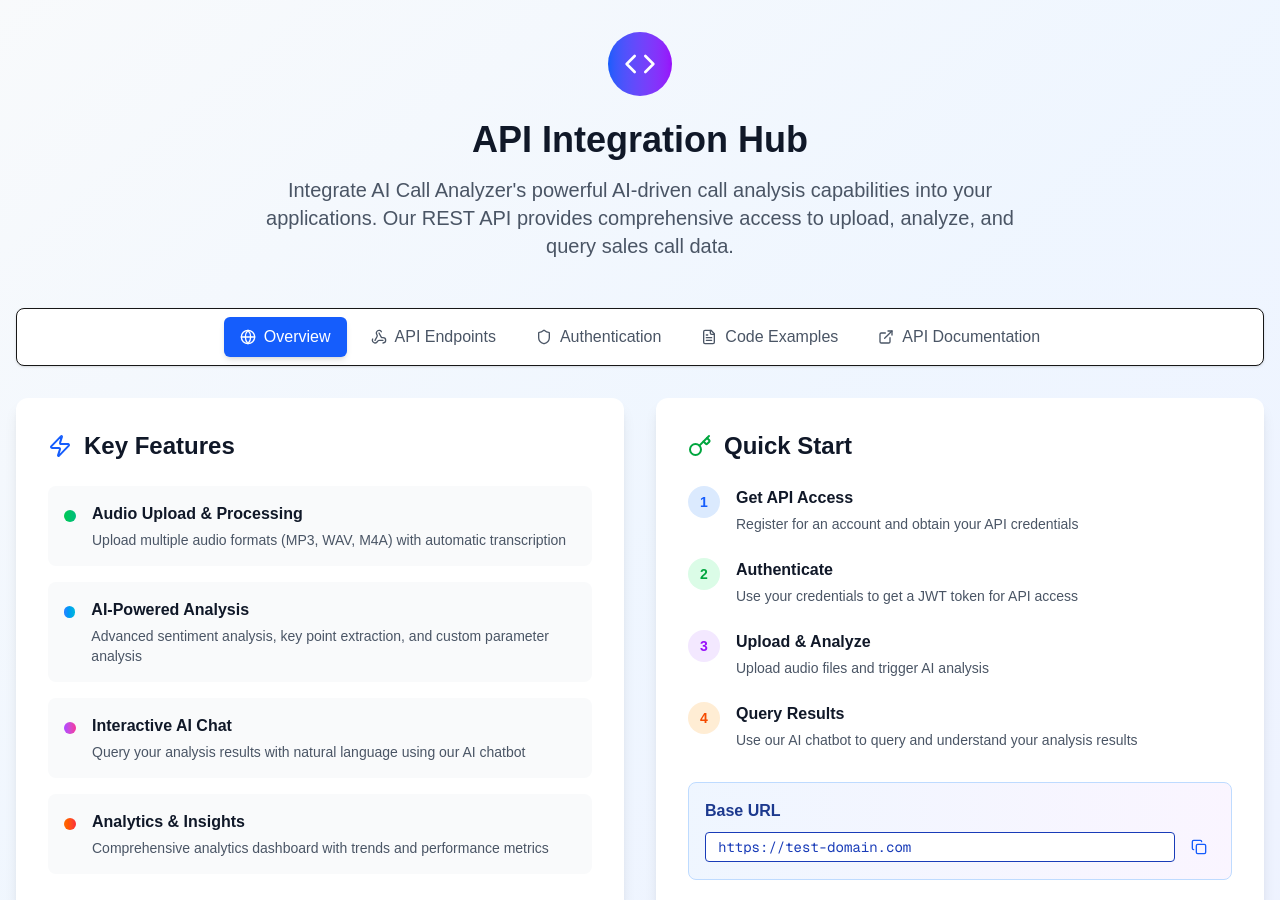
Test case: IntegrationsPage › switches to authentication tab
This screenshot has width=1280, height=900.
Click the button "Authentication" at (599, 337), box [520,317,677,357]
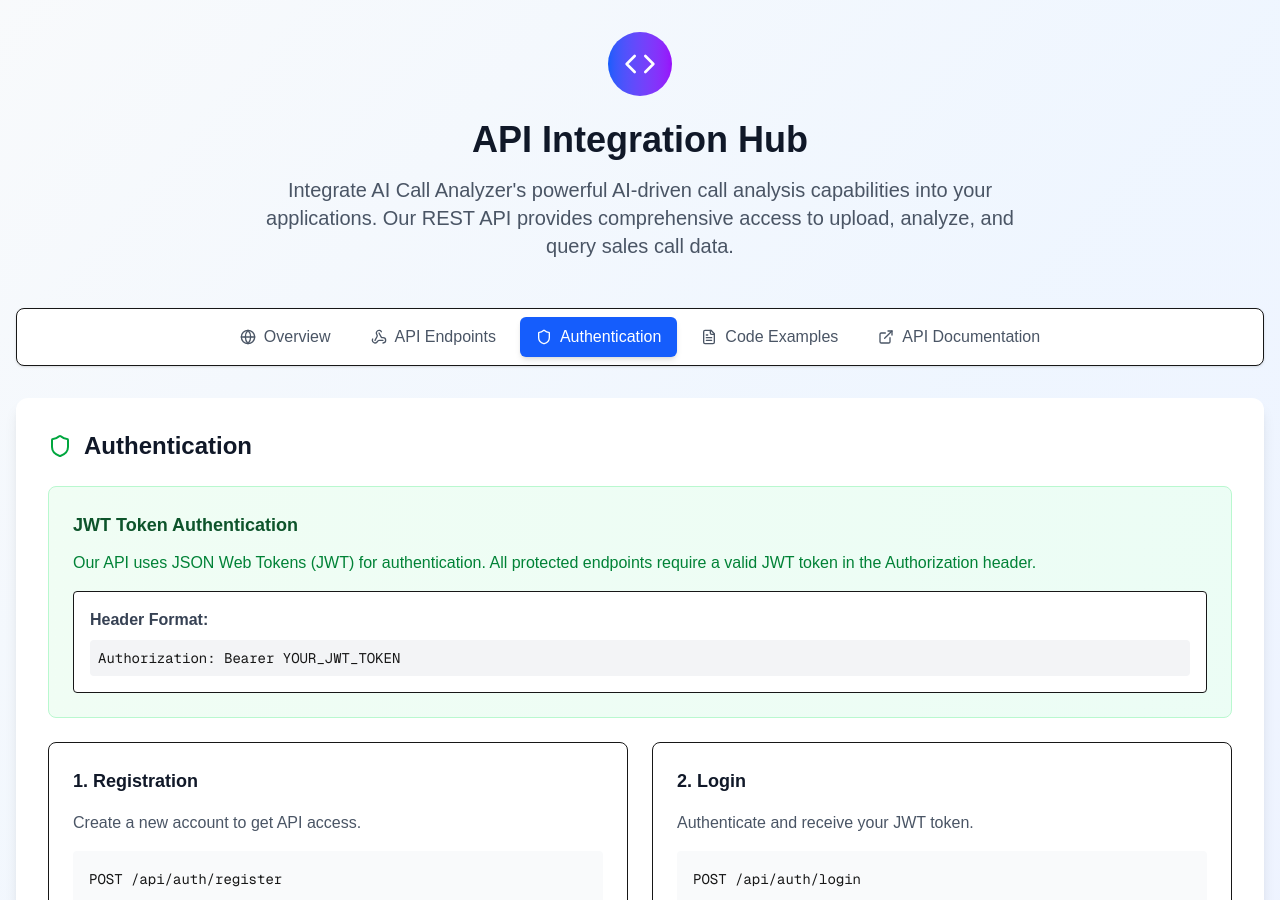
Expected: the heading "JWT Token Authentication" is shown, [73,515,298,535]
Expected: the heading "1. Registration" is shown, [73,771,198,791]
Expected: the heading "2. Login" is shown, [677,771,746,791]
